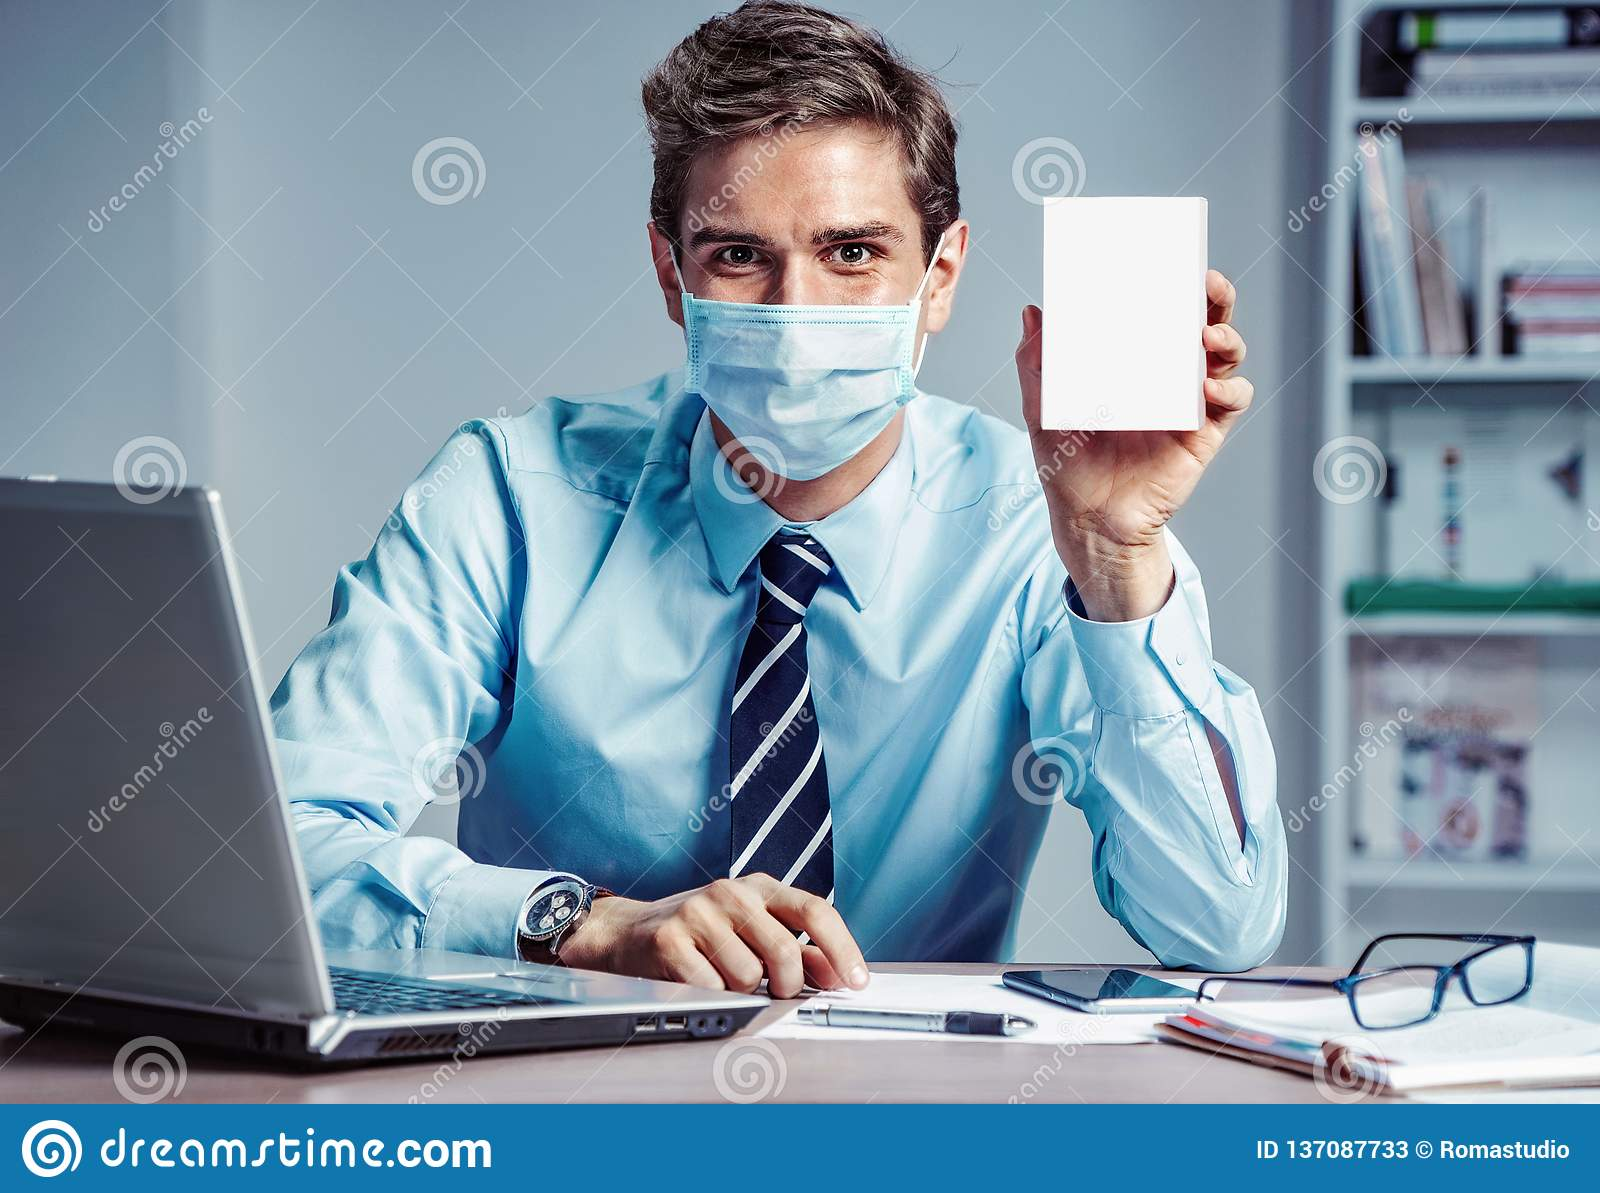mask: (674, 294, 925, 481)
